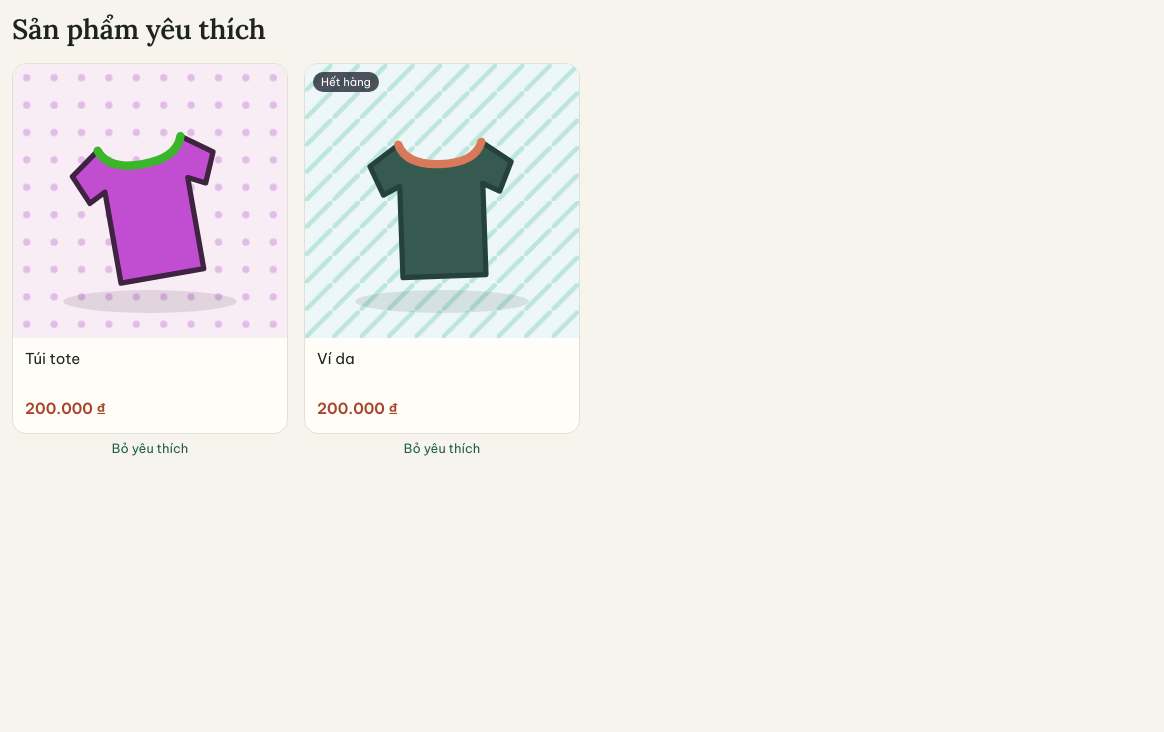
Test case: WishlistPage › bỏ lỗi thì báo lỗi và giữ sản phẩm
Click the button with aria-label "Bỏ Ví da khỏi danh sách yêu thích" at (442, 448), box 304,438 -> 580,459
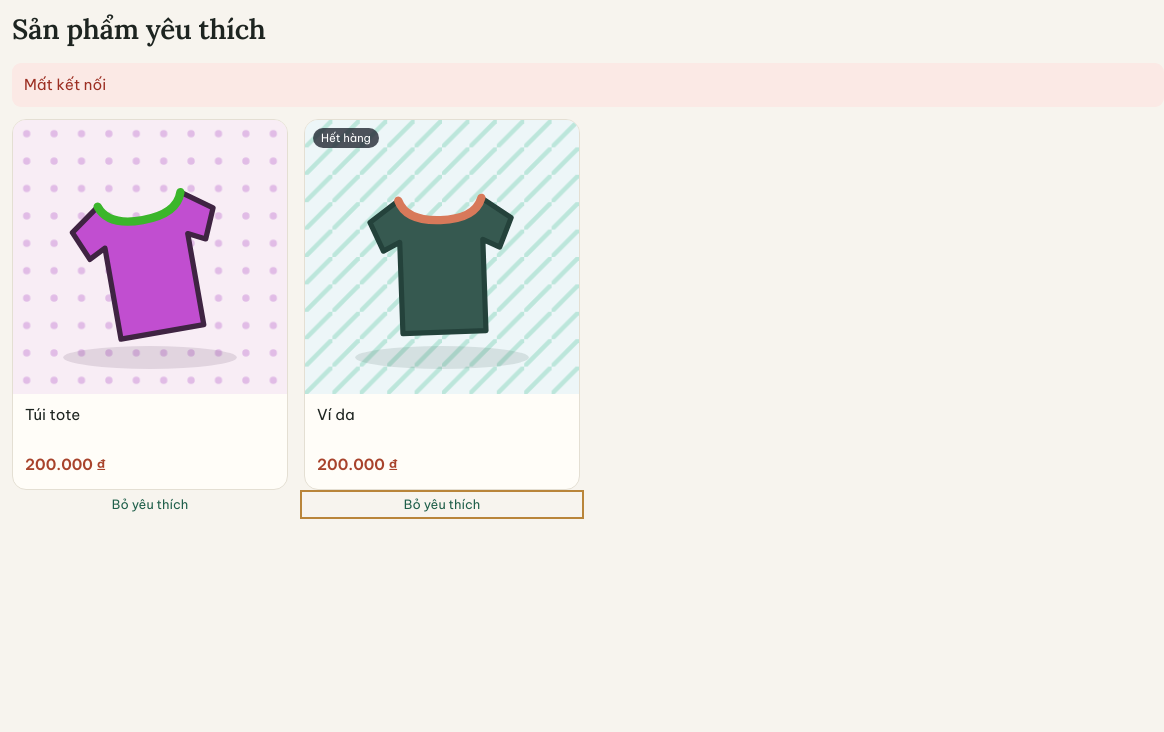
Expected: the link "Hết hàng Ví da 200.000 ₫" is shown, 304,119 -> 580,490
Expected: the message reads "Mất kết nối", 24,75 -> 106,94
